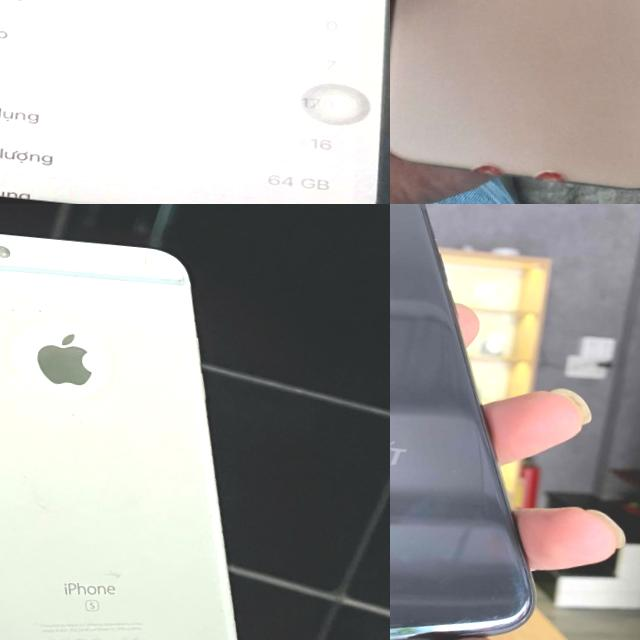gen_11: (0, 0, 390, 204), (390, 204, 533, 640), (390, 0, 640, 204)
gen_6: (0, 215, 287, 640)
scratch: (408, 569, 538, 636), (116, 246, 190, 282), (0, 296, 57, 341), (0, 366, 23, 396)
